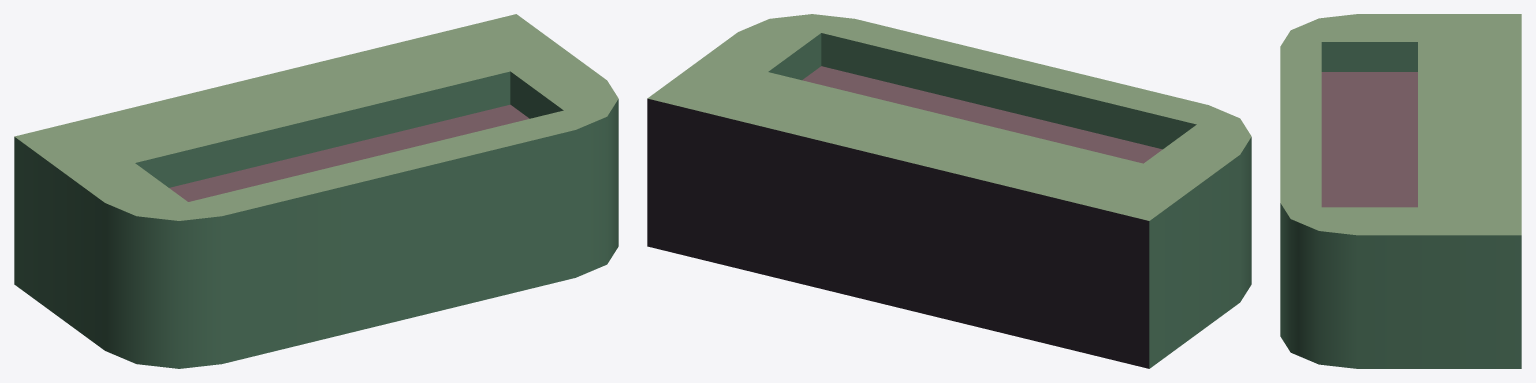
File: PlanterBox_Green02.glb
3 renders of one model, left to right at view 1: azimuth 30°, elevation 25°; view 2: azimuth 150°, elevation 25°; view 3: azimuth 270°, elevation 25°, orthographic. The views are drawn at different scales.
Visible parts, largest first — view 1: PlanterBox_Green02; view 2: PlanterBox_Green02; view 3: PlanterBox_Green02.
Boxes of the visible parts, <box> form: PlanterBox_Green02: <box>14,14,618,368</box>; PlanterBox_Green02: <box>647,14,1251,368</box>; PlanterBox_Green02: <box>1280,14,1521,368</box>.
Size of the model in its own units: 0.9727 by 0.2738 by 0.4483.
Materials: 1 (1 with a texture image).
